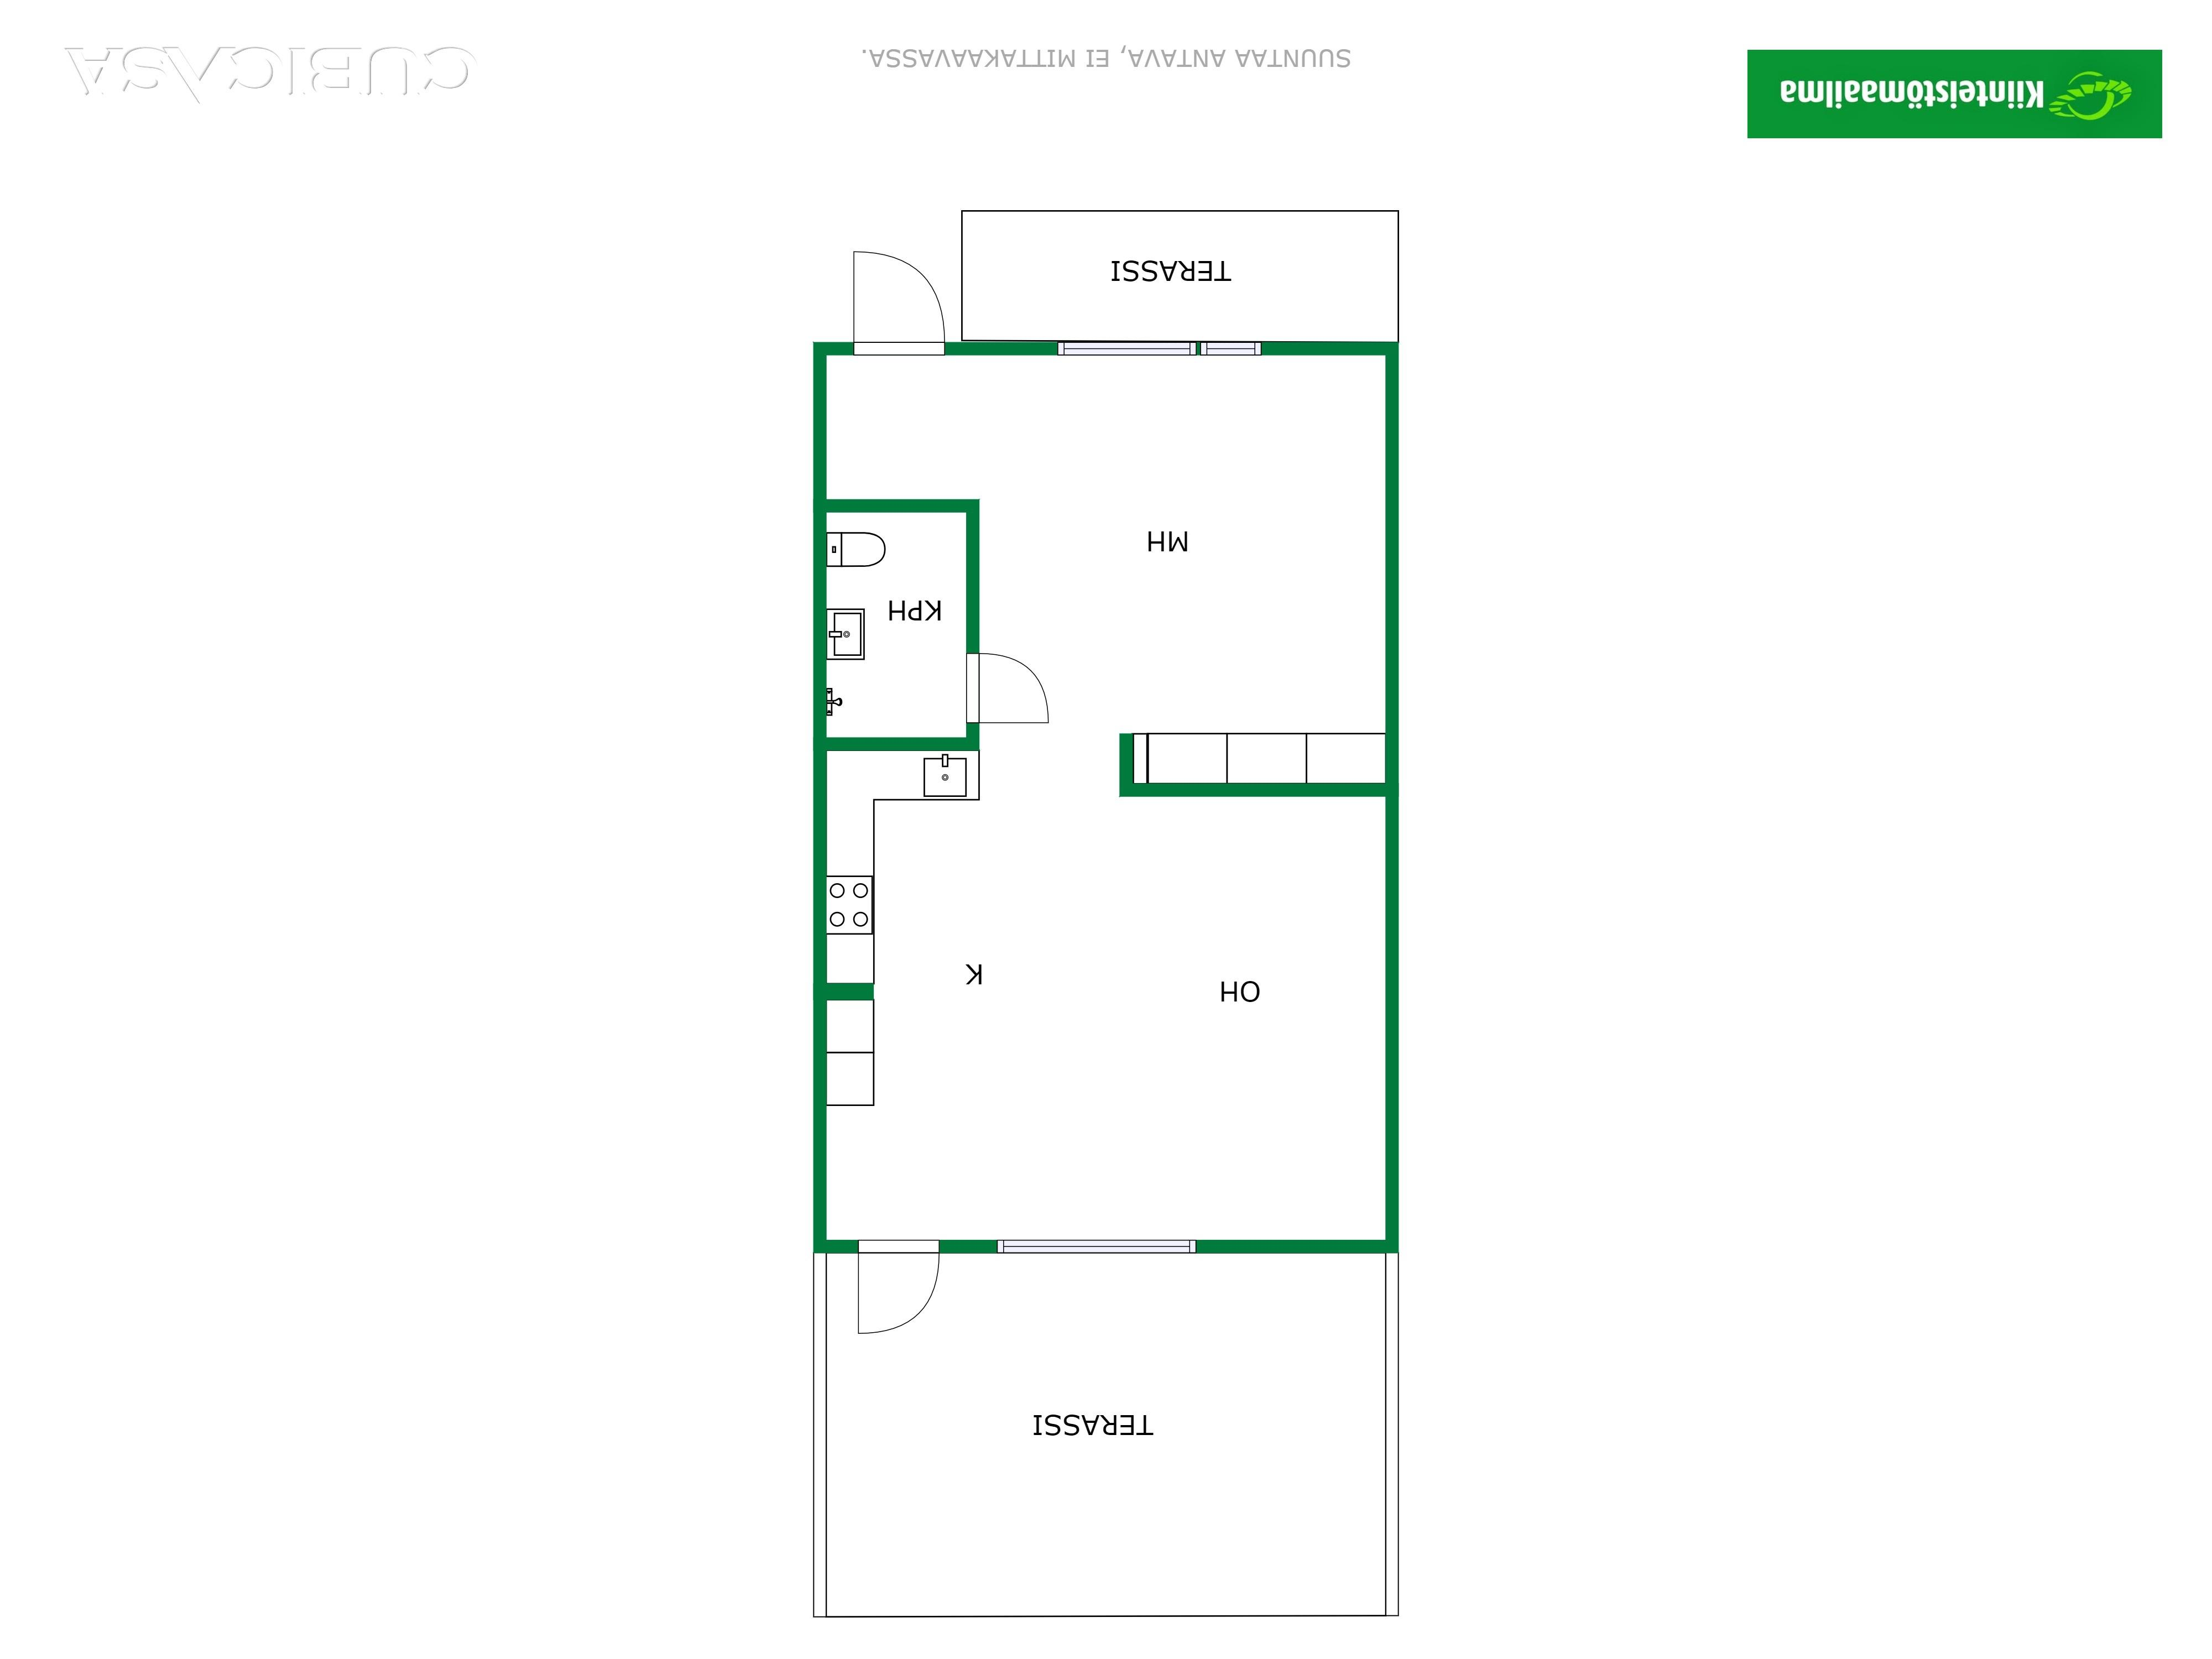bathroom: (815, 505, 977, 732)
door: (841, 244, 951, 362), (850, 1234, 947, 1340), (956, 646, 1055, 736)
perimeter: (808, 330, 1404, 1260)
window: (977, 1230, 1210, 1264), (1051, 327, 1203, 369), (1193, 332, 1265, 362)
